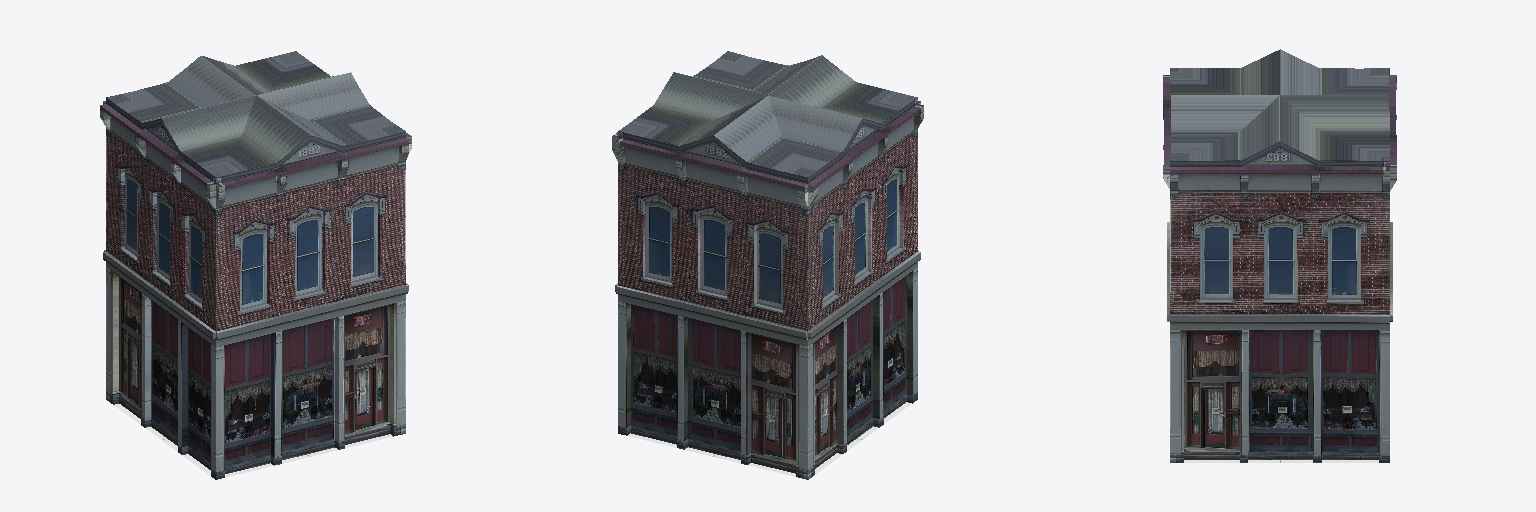
3 views of the same model, side by side, from view 1: azimuth 30°, elevation 25°; view 2: azimuth 150°, elevation 25°; view 3: azimuth 270°, elevation 25° (orthographic).
Visible parts, largest first — view 1: Plane01; view 2: Plane01; view 3: Plane01.
Part boxes in pixels (bbox=[...]): Plane01: bbox=[100, 51, 411, 479]; Plane01: bbox=[612, 51, 923, 479]; Plane01: bbox=[1163, 49, 1396, 462].
Size of the model in its own units: 51059 by 77596 by 51059.
Materials: 1 (1 with a texture image).